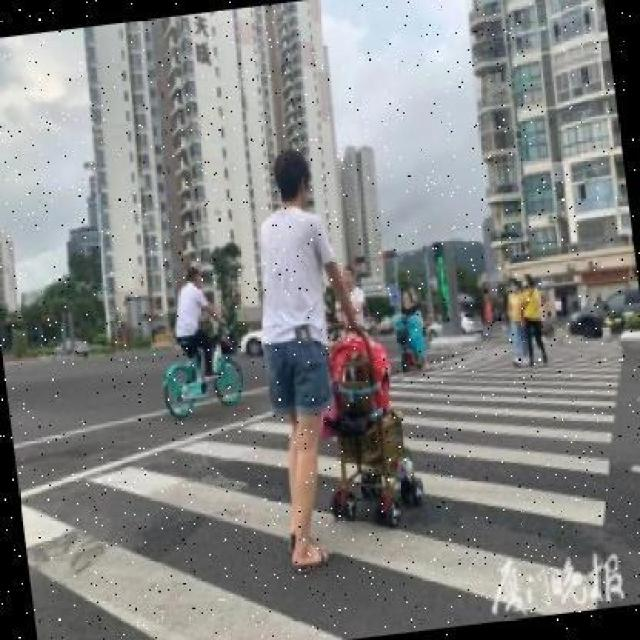Person: (242, 148, 376, 562), (308, 279, 429, 533), (517, 272, 548, 368), (502, 277, 529, 366)
